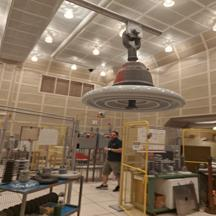insulator: (78, 58, 191, 122)
